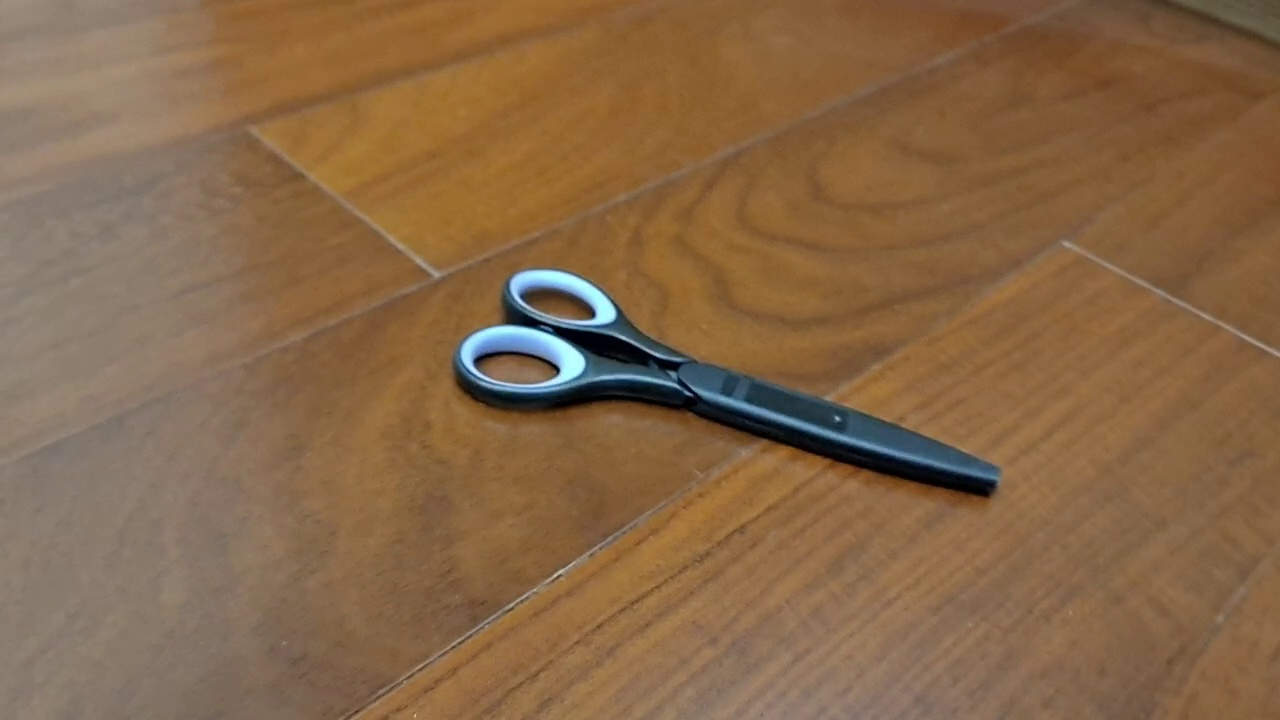scissors: (452, 267, 1003, 500)
